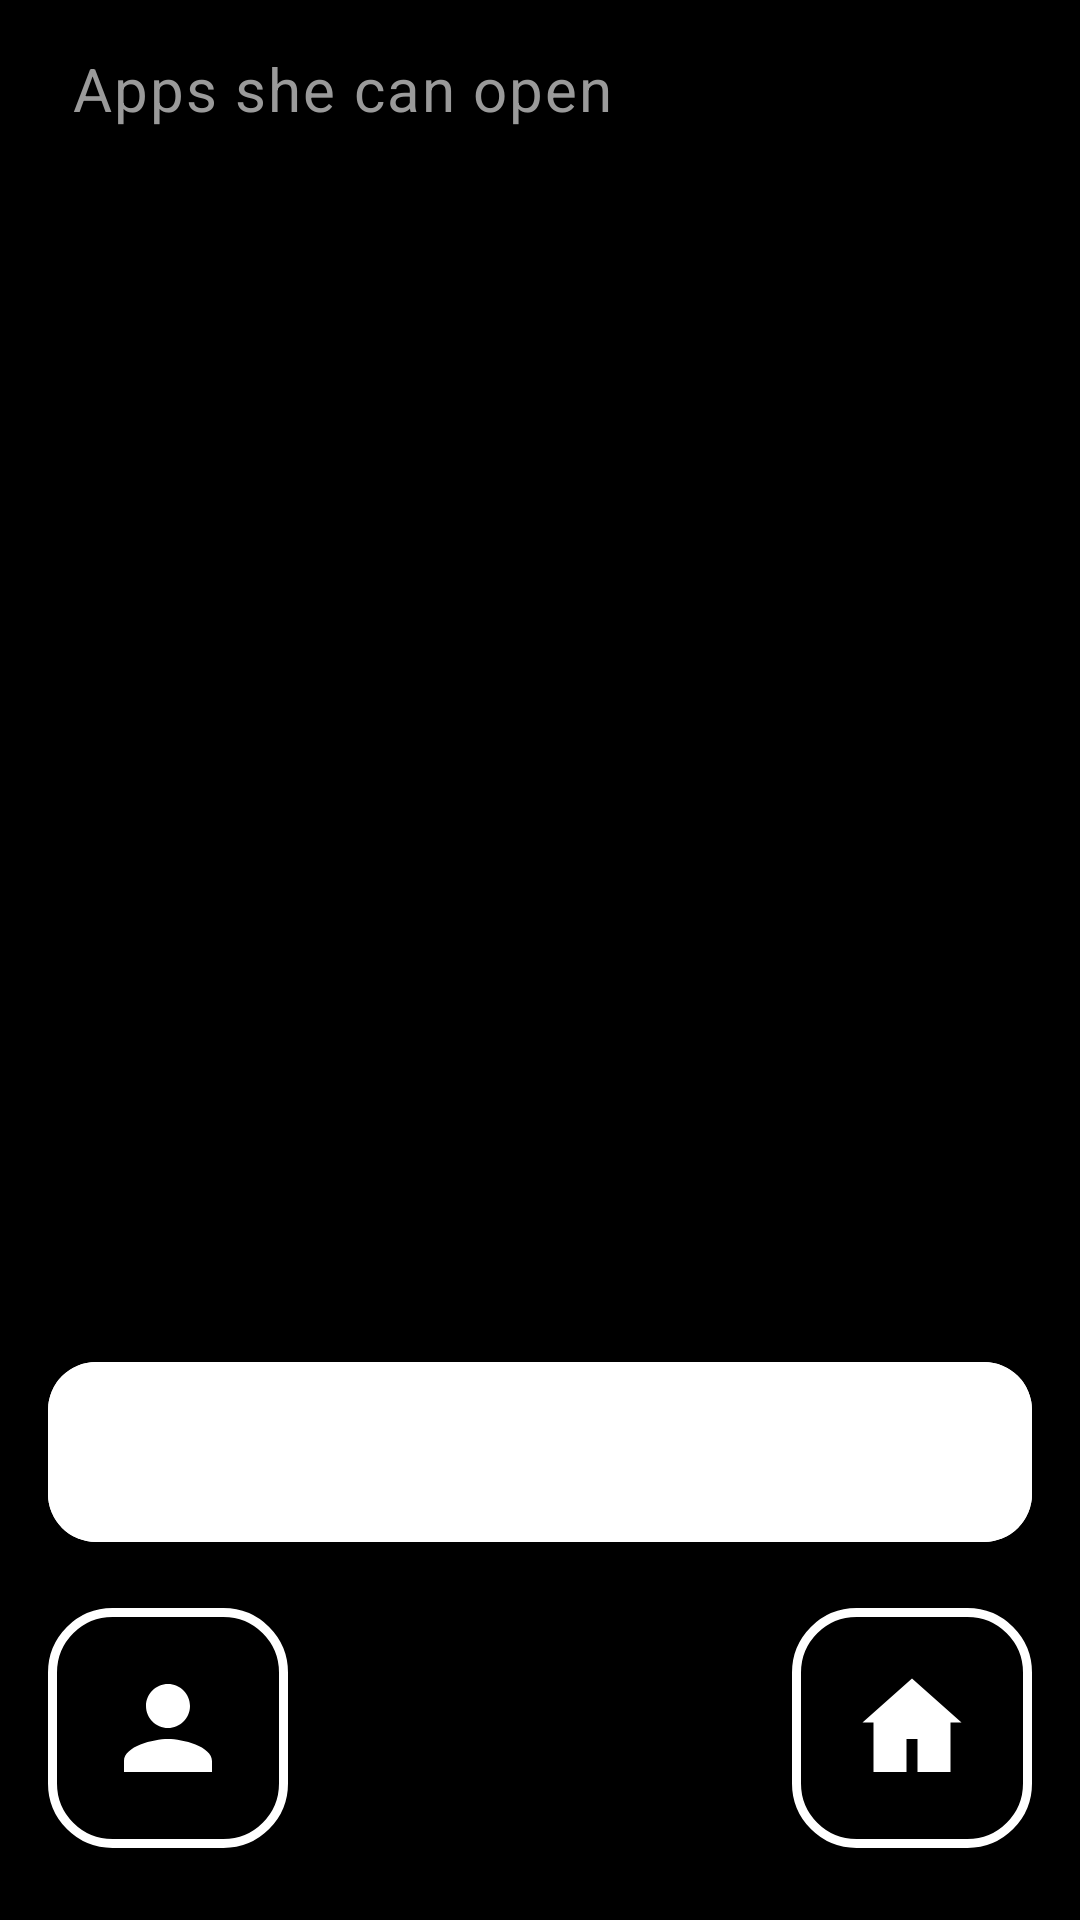

Named icons in this screenshot (1080 × 1920) and their centers, [x,y]:
Home: [912,1728]
